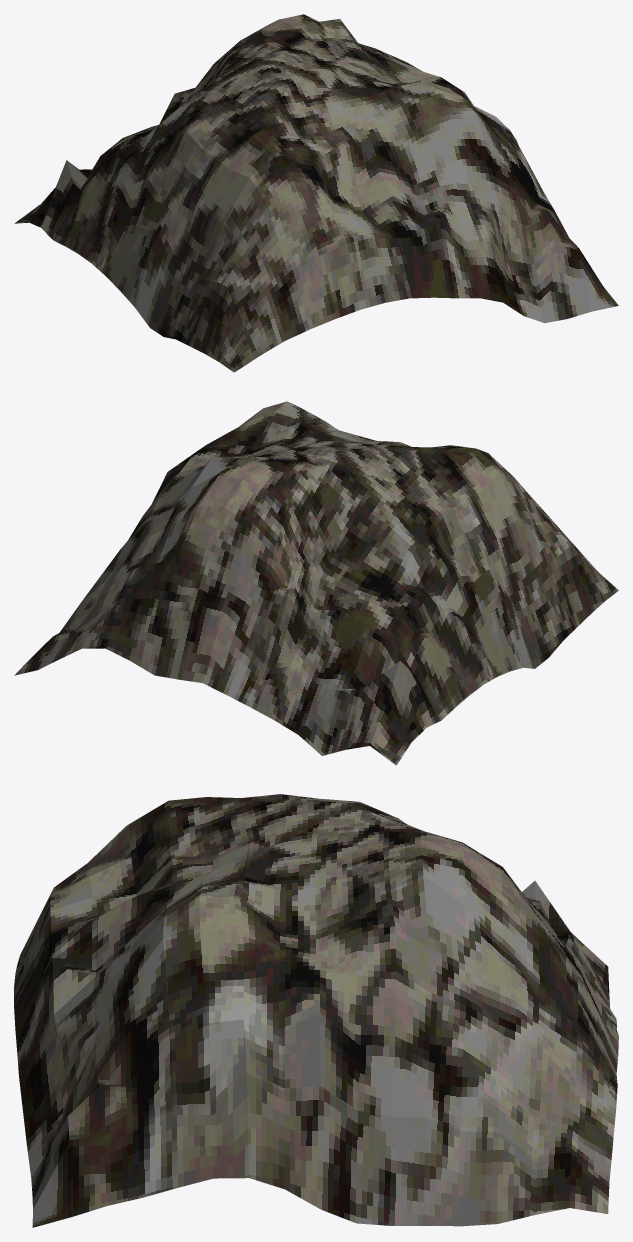
The model's file is gora.glb.
3 views of the same model, one above another, from view 1: azimuth 30°, elevation 25°; view 2: azimuth 150°, elevation 25°; view 3: azimuth 270°, elevation 25° (orthographic). The views are drawn at different scales.
Parts seen in each view (by area): view 1: Plane; view 2: Plane; view 3: Plane.
Part boxes in pixels (bbox=[...]): Plane: bbox=[14, 14, 618, 372]; Plane: bbox=[14, 401, 618, 765]; Plane: bbox=[14, 794, 618, 1227].
Size of what is drawn, in the model's own units: 2.08 by 1.08 by 2.14.
1 material, 1 textured.
